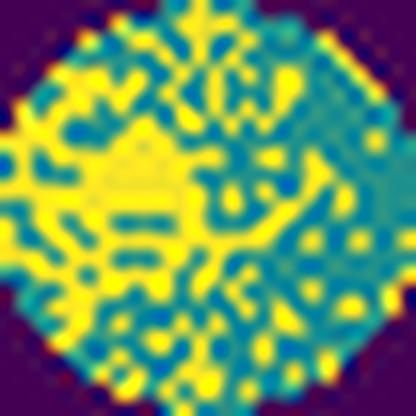Near-full: (0, 0, 352, 416)
